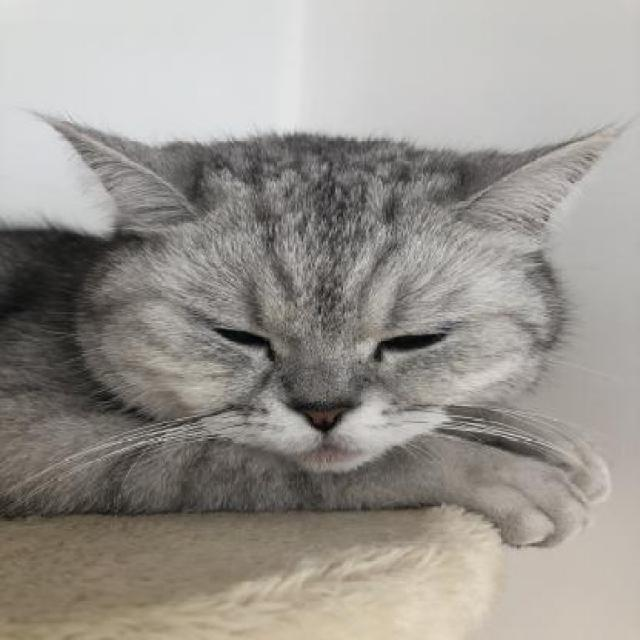cat-face: (24, 55, 638, 477)
